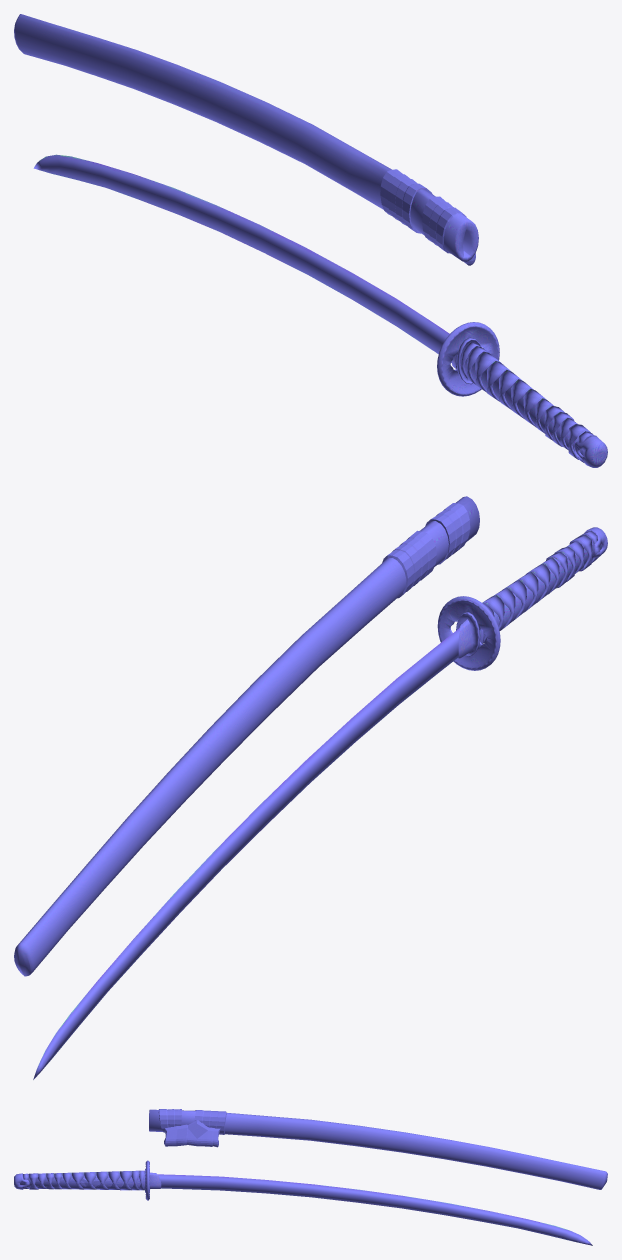
The model's file is katana_classic_001.obj.
3 renders of one model, top to bottom at view 1: azimuth 30°, elevation 25°; view 2: azimuth 150°, elevation 25°; view 3: azimuth 270°, elevation 25°, orthographic. The views are drawn at different scales.
Visible parts, largest first — view 1: sheath_Plane.004, sword_Plane.001; view 2: sheath_Plane.004, sword_Plane.001; view 3: sheath_Plane.004, sword_Plane.001.
Part boxes in pixels (left/top/right/bottom): sheath_Plane.004: left=14, top=14, right=478, bottom=265; sword_Plane.001: left=33, top=154, right=607, bottom=467; sheath_Plane.004: left=14, top=496, right=479, bottom=976; sword_Plane.001: left=33, top=527, right=607, bottom=1079; sheath_Plane.004: left=149, top=1109, right=607, bottom=1189; sword_Plane.001: left=14, top=1160, right=592, bottom=1245.
Size of the model in its own units: 0.5512 by 2.27 by 8.96.
Materials: 1 (1 with a texture image).
